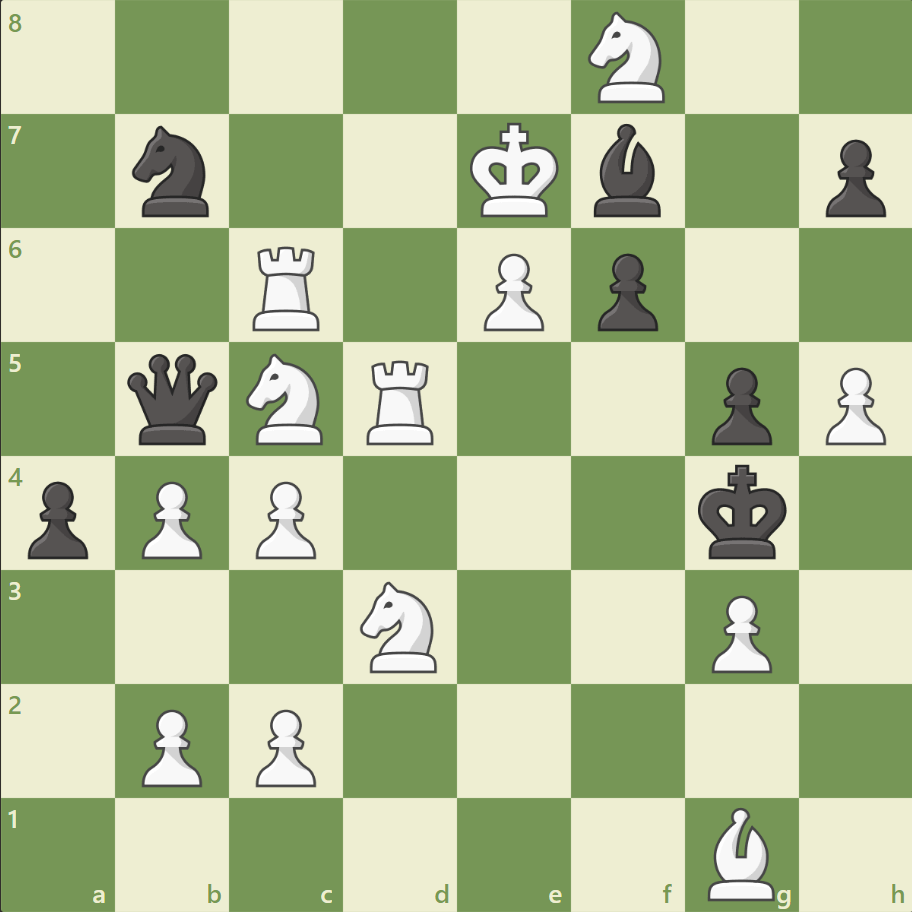B: (698, 801, 782, 904)
K: (465, 117, 565, 225)
N: (351, 575, 449, 677), (579, 7, 676, 110), (238, 348, 335, 450)
P: (474, 246, 549, 337), (133, 473, 208, 564), (247, 473, 322, 564), (701, 586, 776, 677), (133, 700, 208, 791), (247, 700, 322, 791), (815, 359, 889, 450)
R: (246, 239, 329, 336), (360, 352, 442, 449)
b: (585, 120, 669, 222)
k: (692, 458, 792, 566)
n: (124, 121, 222, 223)
p: (701, 359, 776, 450), (20, 473, 95, 564), (815, 132, 889, 223), (588, 246, 662, 337)
q: (124, 349, 223, 449)
